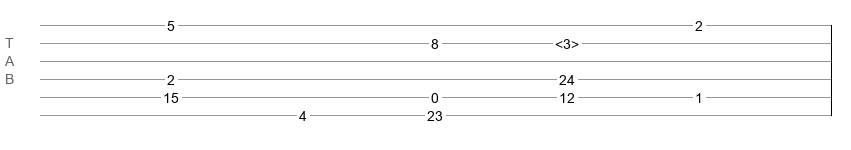0: (431, 90, 439, 100)
1: (695, 90, 703, 100)
12: (559, 90, 575, 100)
15: (163, 90, 179, 100)
2: (167, 72, 175, 82), (695, 18, 703, 28)
23: (427, 108, 443, 118)
24: (559, 72, 575, 82)
4: (299, 108, 307, 118)
5: (167, 18, 175, 28)
8: (431, 36, 439, 46)
harmonic: (555, 36, 579, 46)
